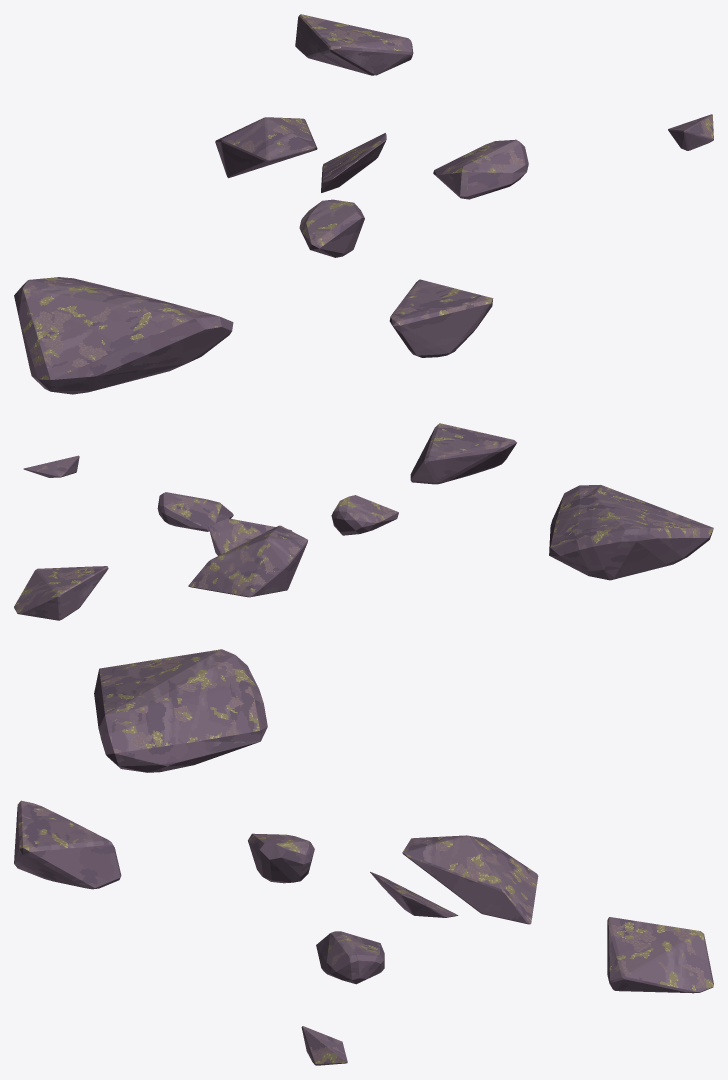
File: P01_Pebbles_B.fbx
3 views of the same model, one above another, from view 1: azimuth 30°, elevation 25°; view 2: azimuth 150°, elevation 25°; view 3: azimuth 270°, elevation 25° (orthographic). The views are drawn at different scales.
Visible parts, largest first — view 1: P01B_5, P01B_2, P01B_4, P01B_6, P01B_3, P01B_1, P01B_0, P01B_7; view 2: P01B_5, P01B_6, P01B_2, P01B_4, P01B_3, P01B_1, P01B_0, P01B_7; view 3: P01B_5, P01B_6, P01B_4, P01B_2, P01B_3, P01B_1, P01B_0, P01B_7.
Boxes of the visible parts, x1,y1,x2,y2 form: P01B_5: (14, 277, 233, 394); P01B_2: (389, 279, 493, 357); P01B_4: (295, 14, 413, 75); P01B_6: (215, 117, 317, 178); P01B_3: (433, 139, 528, 199); P01B_1: (299, 199, 364, 257); P01B_0: (321, 133, 386, 192); P01B_7: (668, 114, 713, 150); P01B_5: (549, 485, 713, 580); P01B_6: (188, 525, 307, 597); P01B_2: (410, 423, 516, 484); P01B_4: (14, 566, 108, 620); P01B_3: (157, 492, 233, 531); P01B_1: (331, 495, 398, 535); P01B_0: (208, 518, 291, 555); P01B_7: (23, 455, 79, 477); P01B_5: (94, 649, 267, 772); P01B_6: (402, 835, 538, 924); P01B_4: (607, 917, 713, 993); P01B_2: (14, 800, 121, 889); P01B_3: (316, 931, 384, 984); P01B_1: (248, 833, 314, 883); P01B_0: (370, 872, 458, 917); P01B_7: (301, 1026, 347, 1065).
Size of the model in its own units: 1.34 by 0.1111 by 1.06.
